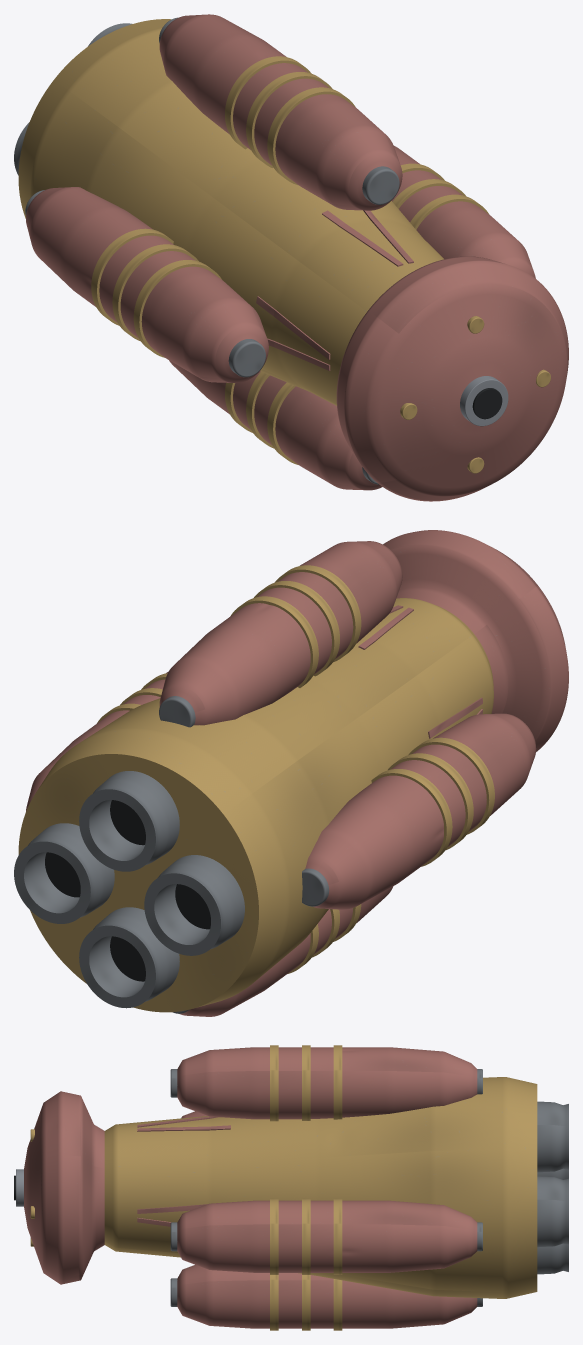
3 views of the same model, one above another, from view 1: azimuth 30°, elevation 25°; view 2: azimuth 150°, elevation 25°; view 3: azimuth 270°, elevation 25° (orthographic). The views are drawn at different scales.
Parts seen in each view (by area): view 1: HeartsBlood gold pressure hull, HeartsBlood rose nose, HeartsBlood radial pod 2, HeartsBlood radial pod 1, HeartsBlood radial pod 3, HeartsBlood radial pod 0, HeartsBlood central nose bezel, HeartsBlood pod clamp 1 0, HeartsBlood pod clamp 2 0, HeartsBlood pod clamp 2 1, HeartsBlood pod clamp 1 1, HeartsBlood pod clamp 2 2 (+9 smaller); view 2: HeartsBlood gold pressure hull, HeartsBlood radial pod 2, HeartsBlood radial pod 1, HeartsBlood rose nose, HeartsBlood aft duct housing 2, HeartsBlood aft duct housing 1, HeartsBlood aft duct housing 0, HeartsBlood aft duct housing 3, HeartsBlood radial pod 3, HeartsBlood radial pod 0, HeartsBlood pod clamp 2 1, HeartsBlood pod clamp 2 0 (+10 smaller); view 3: HeartsBlood gold pressure hull, HeartsBlood radial pod 0, HeartsBlood radial pod 1, HeartsBlood rose nose, HeartsBlood radial pod 3, HeartsBlood aft duct housing 0, HeartsBlood aft duct housing 1, HeartsBlood aft duct housing 3, HeartsBlood pod clamp 0 2, HeartsBlood pod clamp 1 2, HeartsBlood pod clamp 0 0, HeartsBlood pod clamp 0 1 (+6 smaller).
Part boxes in pixels (x1,y1,x2,y2): HeartsBlood gold pressure hull: (18,19,443,405); HeartsBlood rose nose: (336,256,568,501); HeartsBlood radial pod 2: (26,187,268,382); HeartsBlood radial pod 1: (159,14,402,210); HeartsBlood radial pod 3: (169,360,382,490); HeartsBlood radial pod 0: (391,145,535,278); HeartsBlood central nose bezel: (460,376,508,426); HeartsBlood pod clamp 1 0: (267,87,355,185); HeartsBlood pod clamp 2 0: (133,260,221,357); HeartsBlood pod clamp 2 1: (112,244,198,341); HeartsBlood pod clamp 1 1: (246,72,332,167); HeartsBlood pod clamp 2 2: (91,228,173,325); HeartsBlood gold pressure hull: (18,598,493,1012); HeartsBlood radial pod 2: (305,713,536,909); HeartsBlood radial pod 1: (159,541,402,725); HeartsBlood rose nose: (383,530,568,751); HeartsBlood aft duct housing 2: (144,855,244,955); HeartsBlood aft duct housing 1: (79,771,179,871); HeartsBlood aft duct housing 0: (14,823,114,923); HeartsBlood aft duct housing 3: (79,907,179,1008); HeartsBlood radial pod 3: (180,886,393,1016); HeartsBlood radial pod 0: (26,671,168,811); HeartsBlood pod clamp 2 1: (388,753,473,849); HeartsBlood pod clamp 2 0: (408,737,494,834); HeartsBlood gold pressure hull: (104,1077,537,1298); HeartsBlood radial pod 0: (177,1200,477,1272); HeartsBlood radial pod 1: (177,1047,477,1119); HeartsBlood rose nose: (24,1091,104,1284); HeartsBlood radial pod 3: (177,1264,477,1328); HeartsBlood aft duct housing 0: (537,1176,568,1247); HeartsBlood aft duct housing 1: (537,1101,568,1172); HeartsBlood aft duct housing 3: (537,1243,568,1274); HeartsBlood pod clamp 0 2: (333,1198,342,1274); HeartsBlood pod clamp 1 2: (333,1045,342,1119); HeartsBlood pod clamp 0 0: (270,1198,278,1274); HeartsBlood pod clamp 0 1: (302,1198,310,1274).
Size of the model in its own units: 2.13 by 2.13 by 3.84.
Materials: 5 (3 with a texture image).
